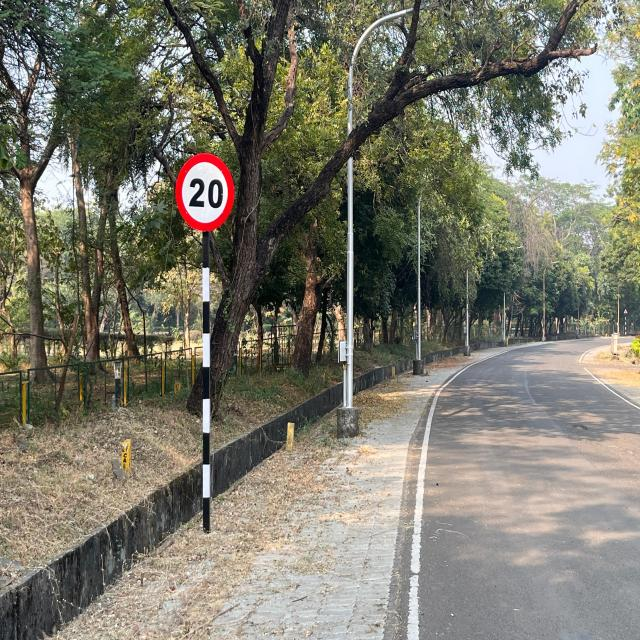forb_speed_over_20: (173, 153, 239, 234)
